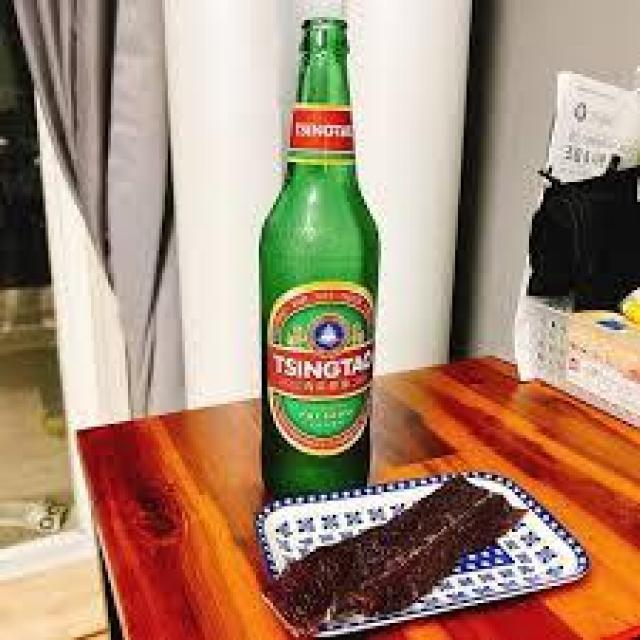beer-bottle: (245, 5, 386, 518)
